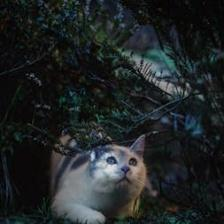kedo: (50, 133, 146, 224)
